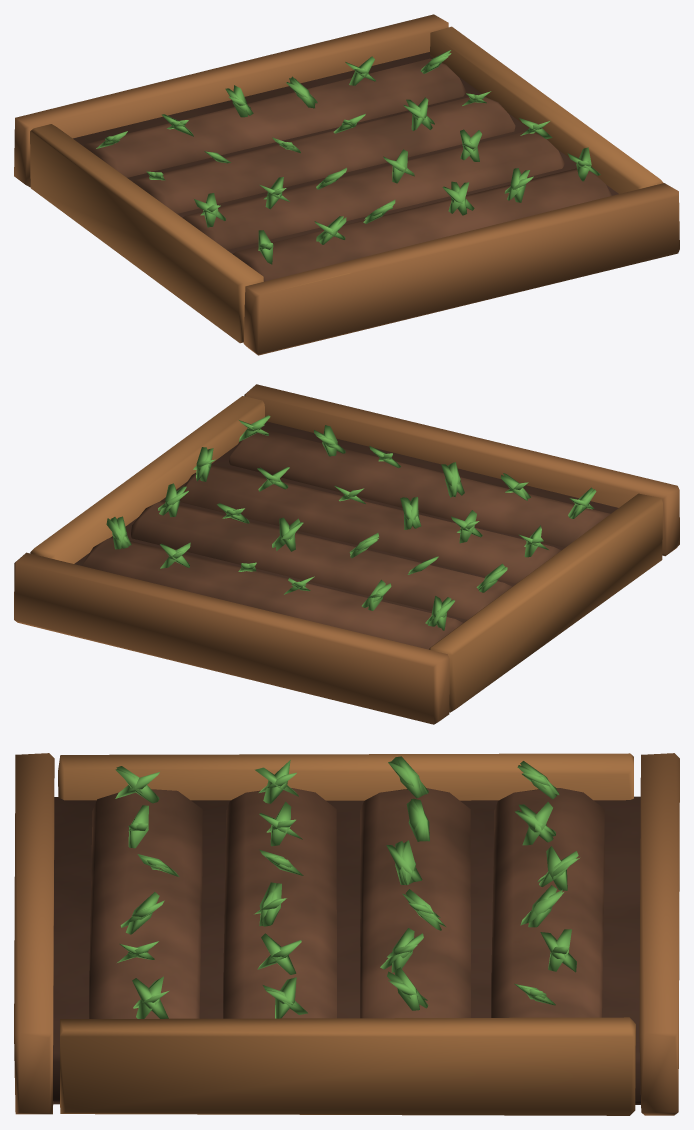
File: crop_wheat_1.glb
The picture shows the model from 3 angles, top to bottom: view 1: azimuth 30°, elevation 25°; view 2: azimuth 150°, elevation 25°; view 3: azimuth 270°, elevation 25°; orthographic projection. The views are drawn at different scales.
Visible parts, largest first — view 1: bed; view 2: bed; view 3: bed.
Boxes of the visible parts, x1,y1,x2,y2 form: bed: [14, 14, 679, 355]; bed: [14, 384, 679, 724]; bed: [14, 753, 679, 1115].
Bounding box in the file's own units: 1.49 × 0.2538 × 1.49.
1 material, 1 textured.
